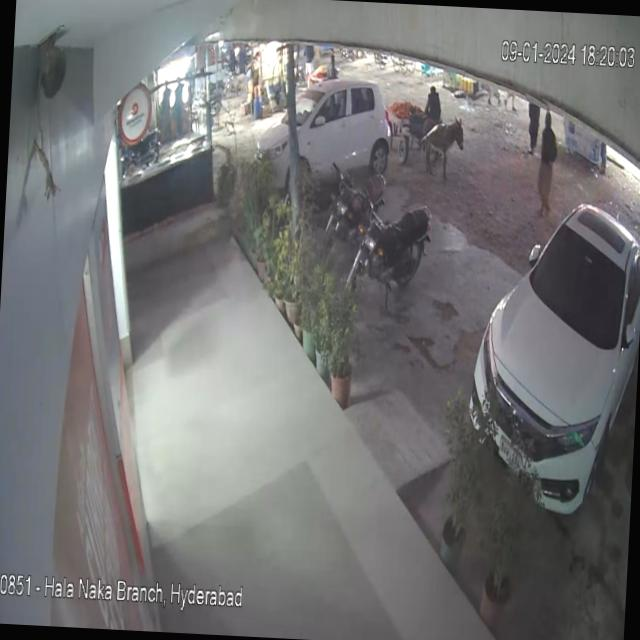Car: (461, 155, 640, 530), (234, 60, 398, 184)
Motorcycle: (336, 196, 436, 299), (325, 161, 393, 252)
